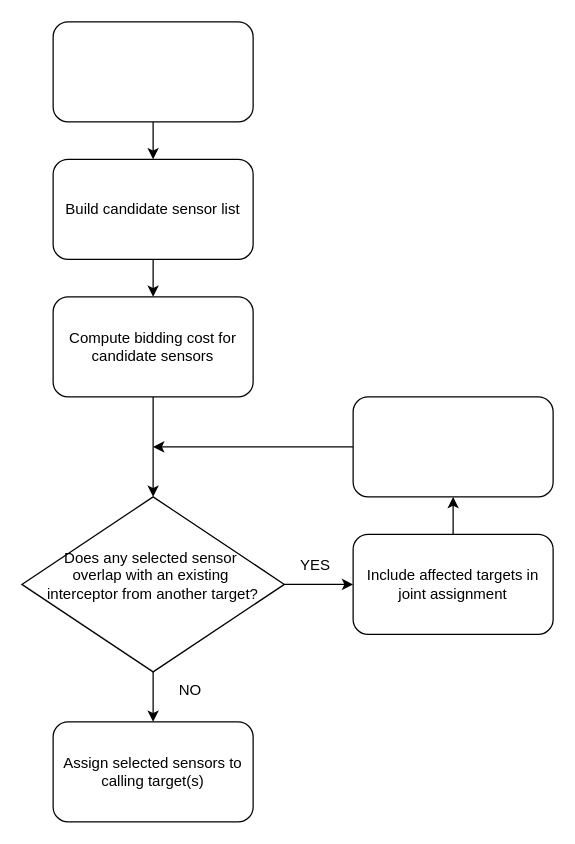
Some shapes in this 575 by 844 pixel diagram are drawn without their labels. Each missing label, with the centre of its shape:
"Calling target: T1" goes at point (152, 71).
"Recompute interception information and sensor-target cost table" goes at point (452, 446).
